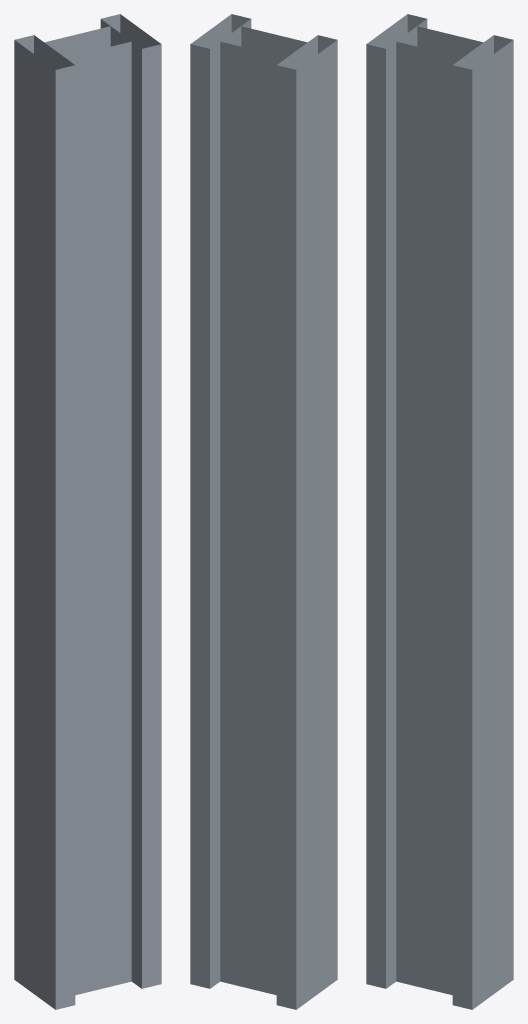
Rendered from SM06_Building_Structure_Column_Mid_01.fbx.
3 renders of one model, left to right at view 1: azimuth 30°, elevation 25°; view 2: azimuth 150°, elevation 25°; view 3: azimuth 330°, elevation 25°, orthographic.
Parts seen in each view (by area): view 1: SM06_Building_Structure_Column_Mid_01; view 2: SM06_Building_Structure_Column_Mid_01; view 3: SM06_Building_Structure_Column_Mid_01.
Boxes of the visible parts, bbox=[...] form: SM06_Building_Structure_Column_Mid_01: bbox=[14, 14, 161, 1009]; SM06_Building_Structure_Column_Mid_01: bbox=[190, 14, 337, 1009]; SM06_Building_Structure_Column_Mid_01: bbox=[366, 14, 513, 1009].
Bounding box in the file's own units: 0.59 × 5.01 × 0.3976.
